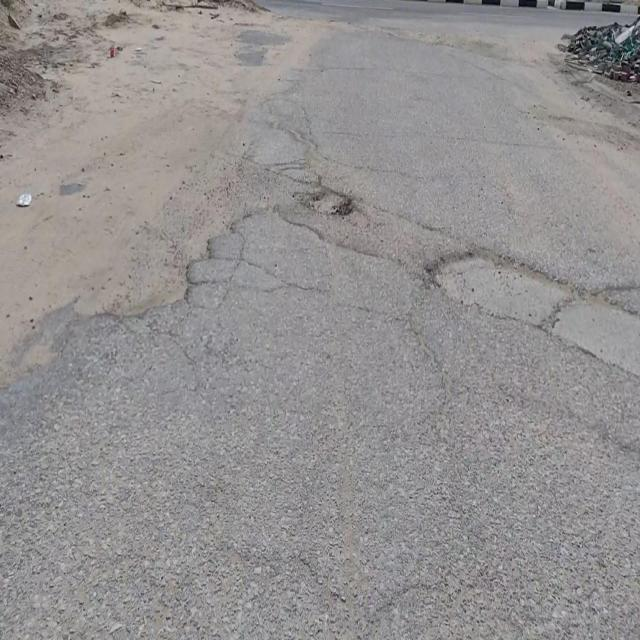Potholes: (423, 244, 577, 329), (75, 241, 211, 323), (293, 183, 354, 220)
